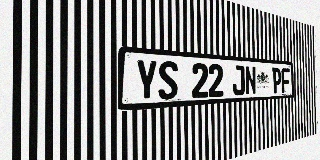2: (192, 63, 208, 98), (208, 64, 223, 97)
F: (281, 68, 290, 93)
J: (232, 65, 245, 96)
N: (245, 66, 256, 95)
P: (272, 67, 281, 94)
S: (158, 61, 178, 100)
Y: (135, 59, 158, 101)
